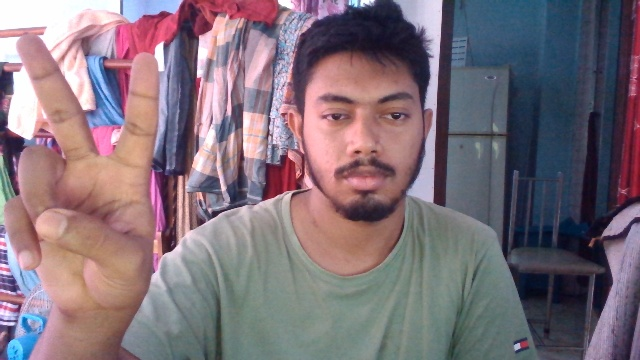thanks: (2, 32, 166, 319)
